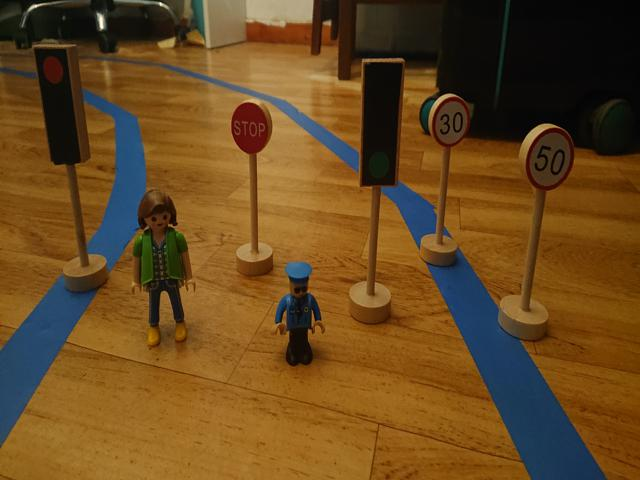30 speed sign: (431, 97, 471, 148)
50 speed sign: (523, 125, 575, 193)
green light: (365, 67, 396, 183)
person: (131, 187, 196, 348), (273, 263, 326, 367)
red light: (40, 51, 73, 157)
stop sign: (228, 101, 271, 154)
